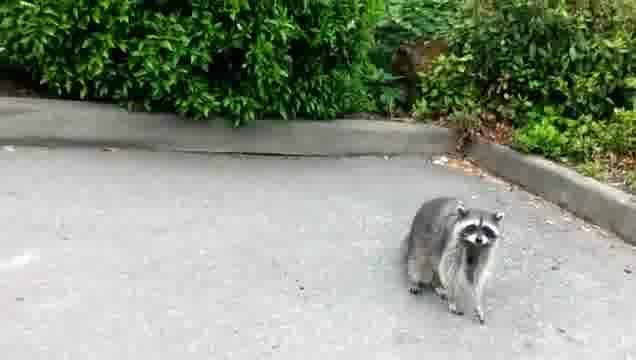raccoon: (400, 190, 509, 328)
